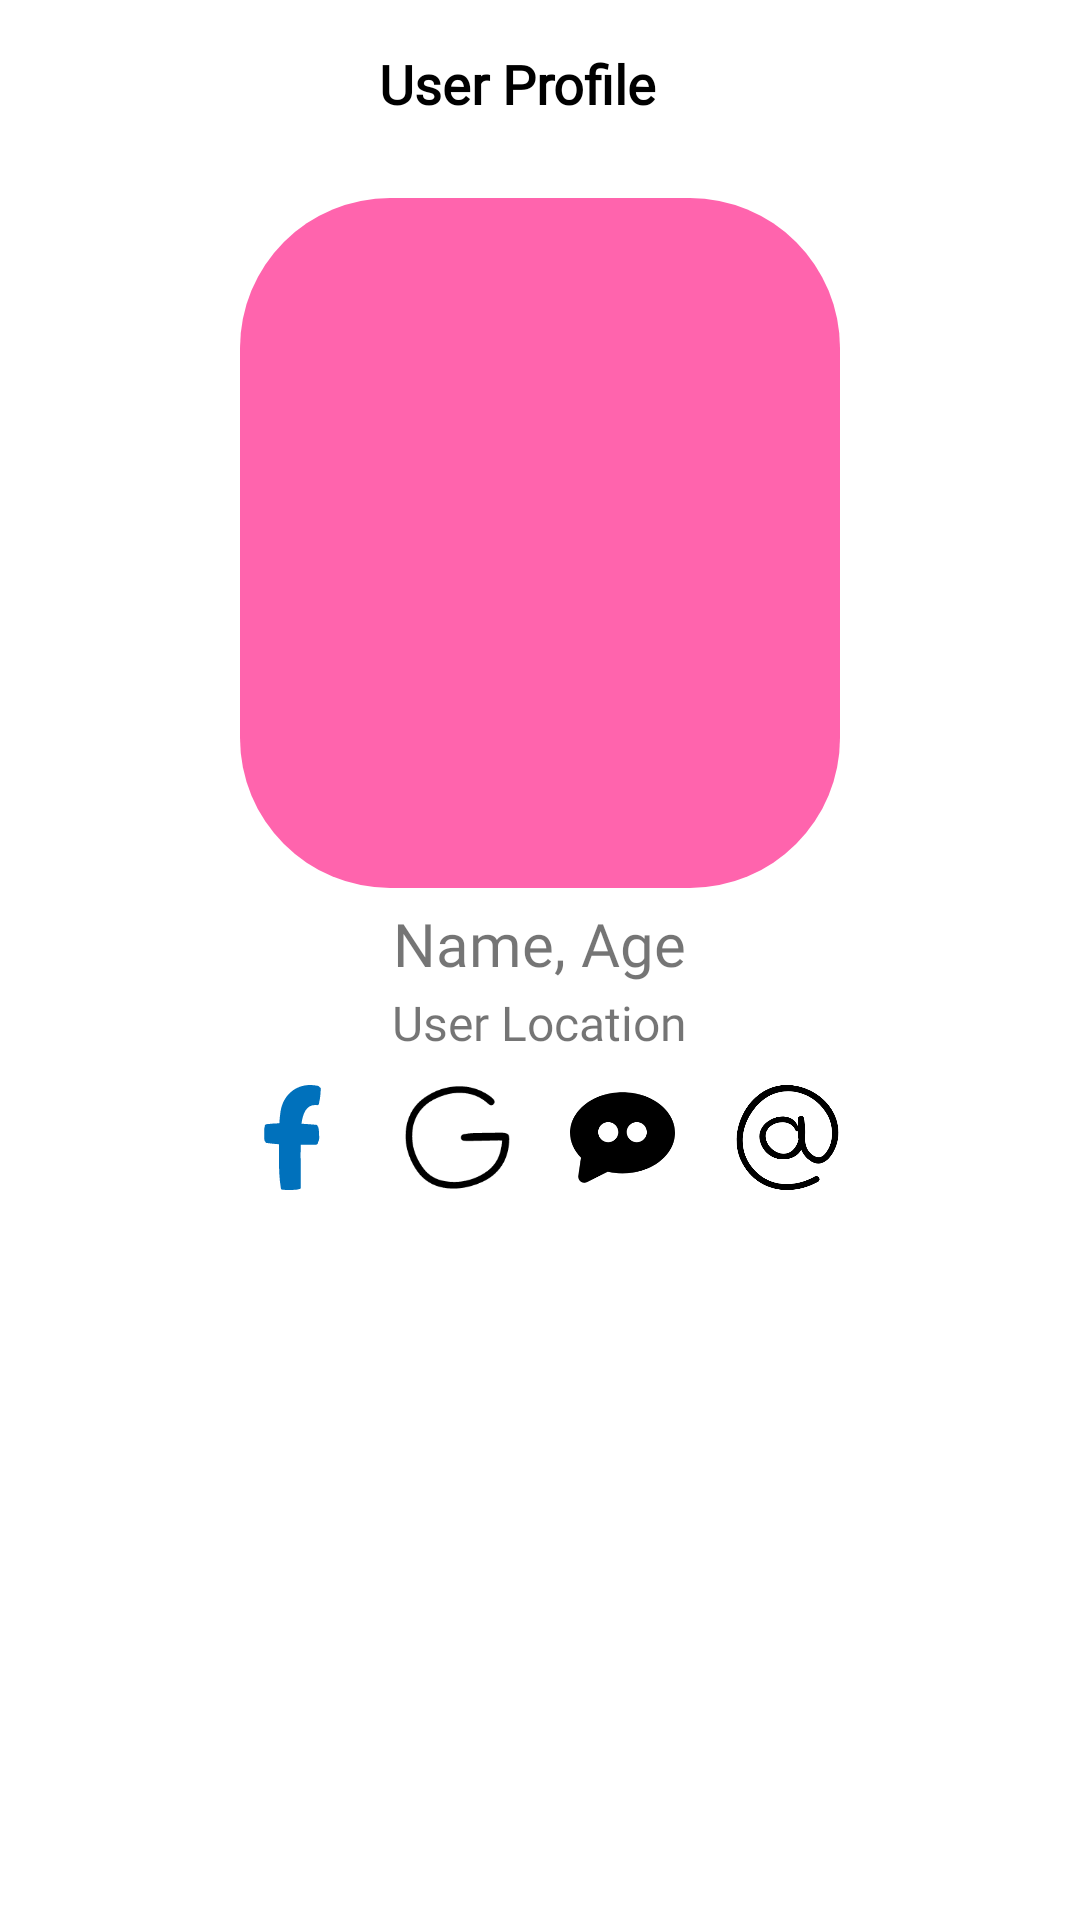

Icons on this 1080x1920 Android screen, each with the point to tap as (x,y):
Email Verified: (787,1137)
